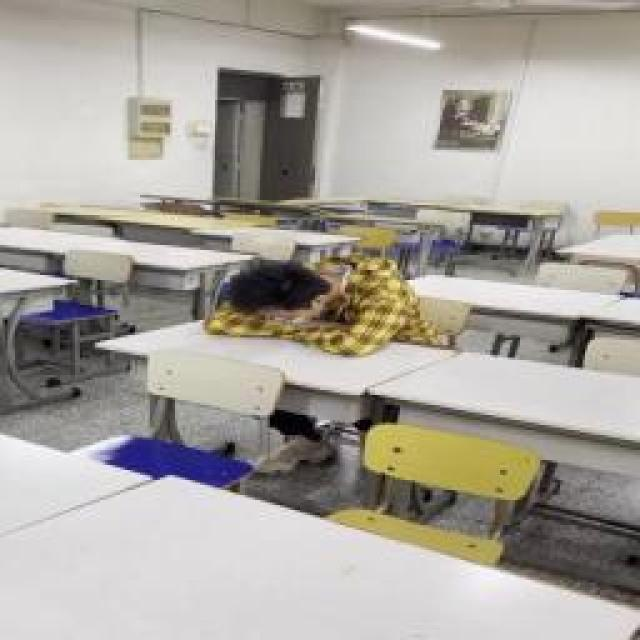sleep: (205, 250, 427, 358)
